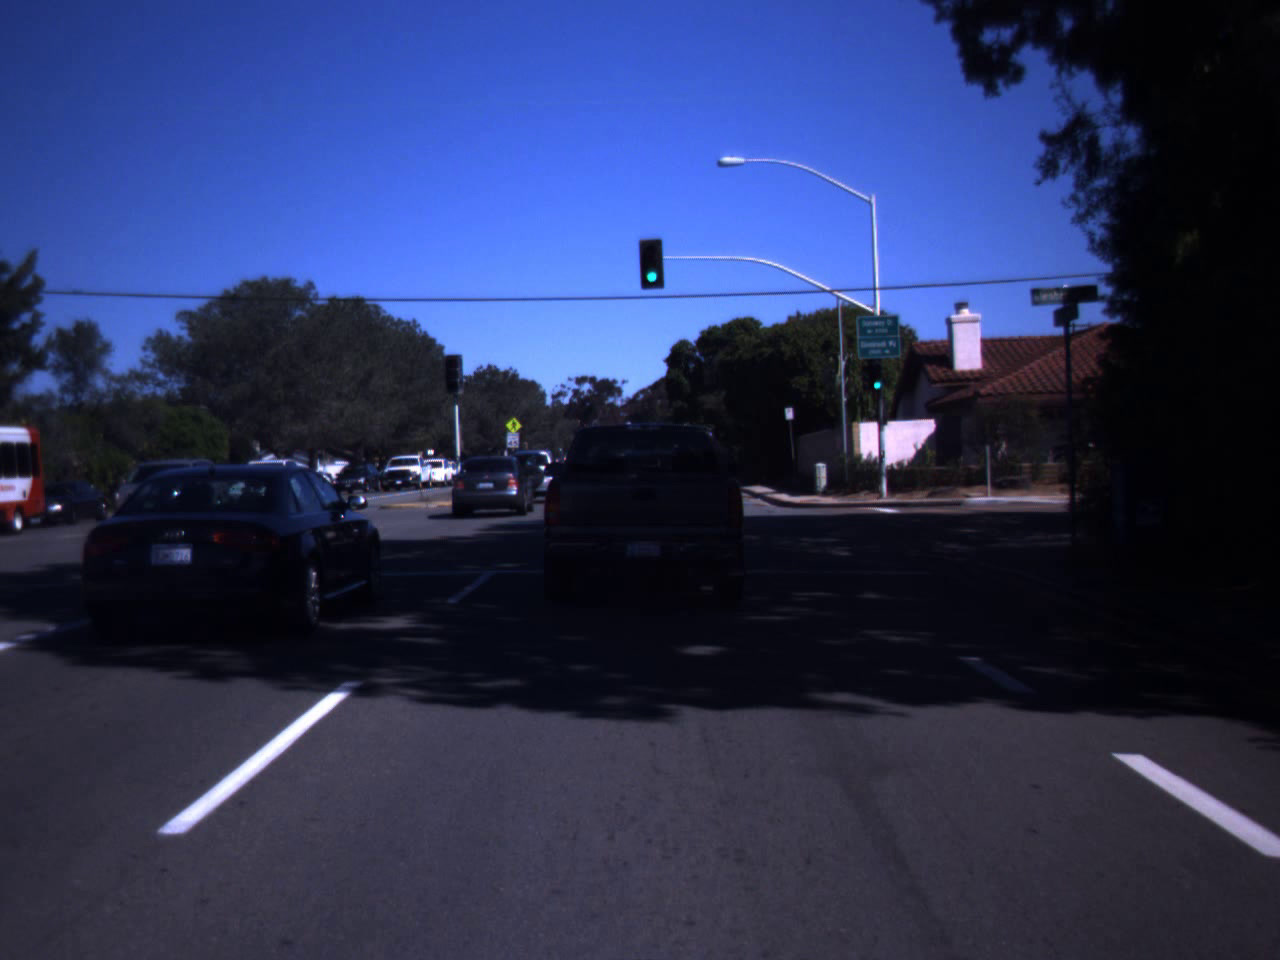go: (640, 245, 664, 285), (870, 365, 885, 390)
